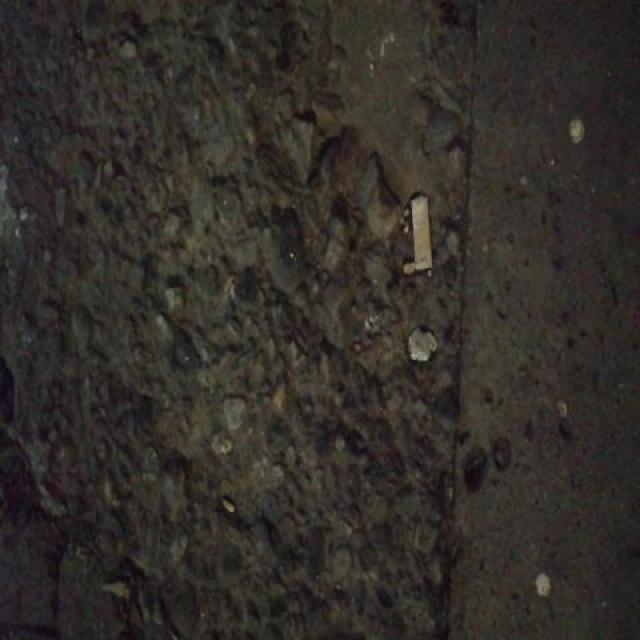non-organic waste: (408, 187, 437, 278)
